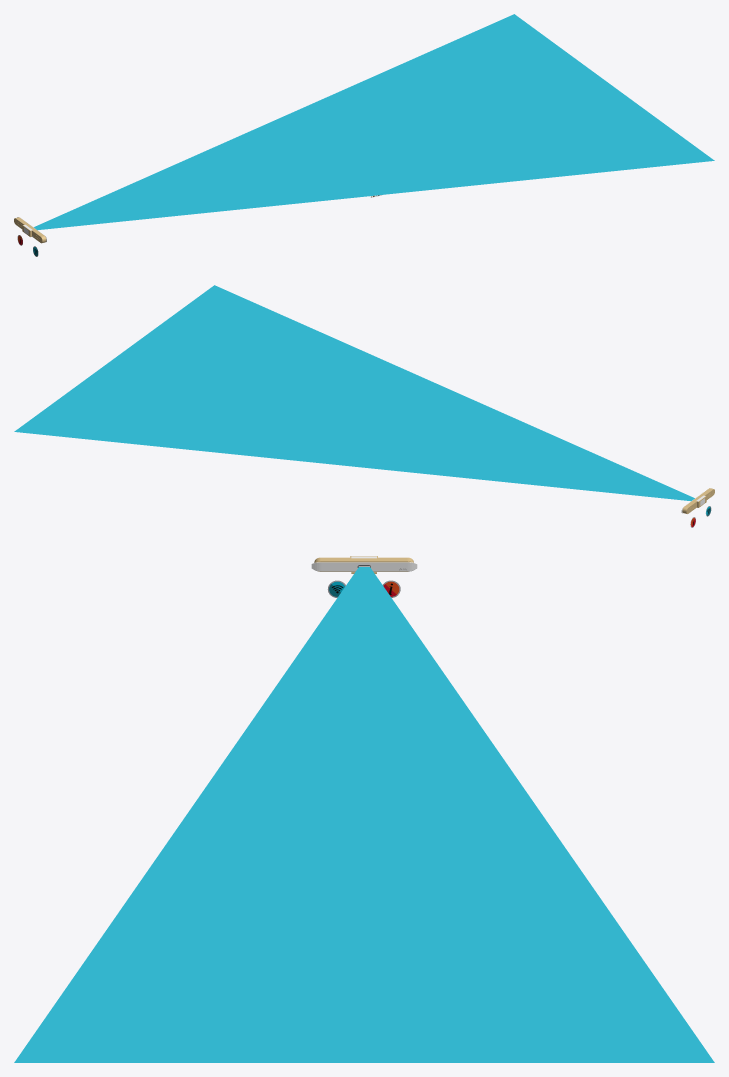
Rendered from MediumProps_Polystudio_x50.glb.
3 renders of one model, top to bottom at view 1: azimuth 30°, elevation 25°; view 2: azimuth 150°, elevation 25°; view 3: azimuth 270°, elevation 25°, orthographic. The views are drawn at different scales.
Visible parts, largest first — view 1: Range_Polystudio_x50; view 2: Range_Polystudio_x50; view 3: Range_Polystudio_x50, MediumProps_Polystudio_x50.
Part boxes in pixels (left/top/right/bottom): Range_Polystudio_x50: left=34, top=14, right=714, bottom=230; Range_Polystudio_x50: left=14, top=285, right=694, bottom=501; Range_Polystudio_x50: left=14, top=567, right=714, bottom=1062; MediumProps_Polystudio_x50: left=311, top=556, right=417, bottom=573.
Size of the model in its own units: 7.58 by 0.4168 by 4.47.
Materials: 15 (3 with a texture image).
